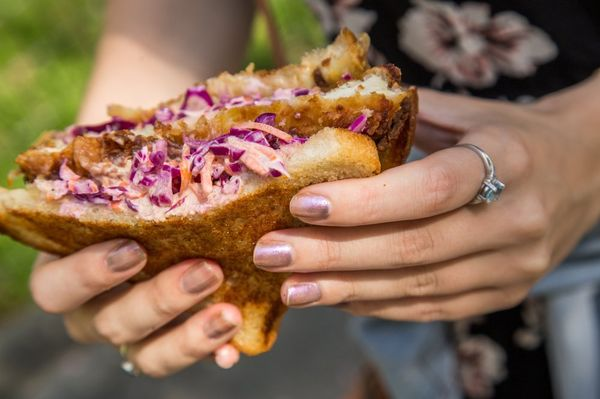soup: (3, 27, 418, 359)
